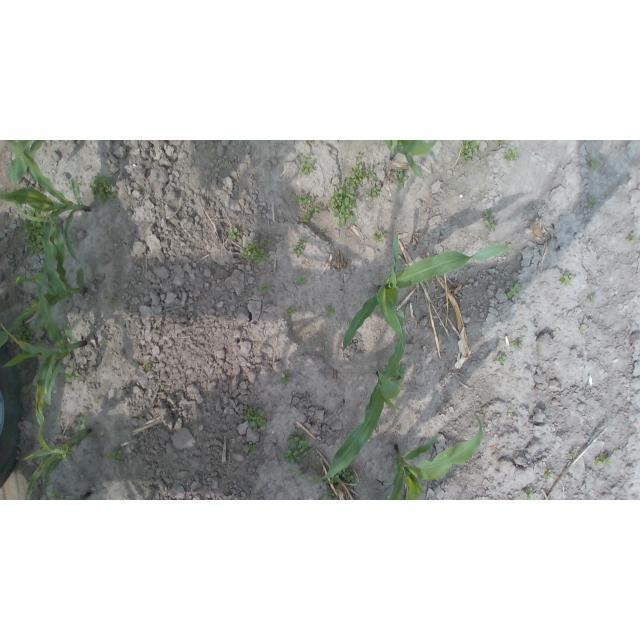Maize: (343, 236, 524, 357), (308, 310, 408, 489), (4, 282, 85, 454), (0, 217, 86, 349), (0, 140, 90, 265), (385, 414, 483, 500), (18, 416, 93, 500), (8, 140, 47, 220), (385, 140, 440, 180), (64, 492, 92, 501)
Weeds: (328, 179, 363, 229), (21, 208, 46, 257), (281, 430, 313, 464), (89, 173, 118, 205), (241, 240, 268, 265), (295, 192, 321, 216), (243, 404, 267, 428), (10, 321, 34, 345), (461, 140, 482, 164), (105, 447, 125, 467), (482, 209, 500, 231), (298, 153, 314, 175), (64, 363, 83, 381), (339, 467, 358, 484), (349, 164, 368, 179), (293, 237, 307, 257), (395, 170, 408, 189), (596, 455, 613, 469), (504, 149, 518, 164), (508, 283, 521, 299), (34, 336, 49, 349), (227, 227, 239, 241), (23, 383, 38, 394), (369, 184, 381, 197), (373, 230, 386, 242), (560, 273, 573, 285), (280, 372, 292, 385), (398, 363, 407, 379), (324, 306, 336, 318), (523, 487, 534, 500), (108, 292, 119, 305), (330, 474, 343, 484), (626, 232, 636, 244), (296, 276, 309, 285), (257, 284, 271, 292), (48, 490, 59, 500), (588, 160, 600, 169), (301, 213, 311, 223), (495, 355, 505, 365), (544, 469, 553, 480), (325, 491, 336, 500), (248, 443, 256, 454), (261, 238, 273, 245), (368, 168, 376, 178), (288, 307, 297, 315), (569, 449, 577, 458), (590, 199, 598, 207), (514, 343, 522, 350), (495, 141, 505, 146), (356, 152, 361, 161), (590, 296, 597, 302), (102, 337, 107, 344), (144, 363, 149, 370), (579, 328, 585, 333), (508, 411, 513, 416), (4, 238, 8, 243)
